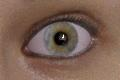eye: (43, 22, 78, 57)
